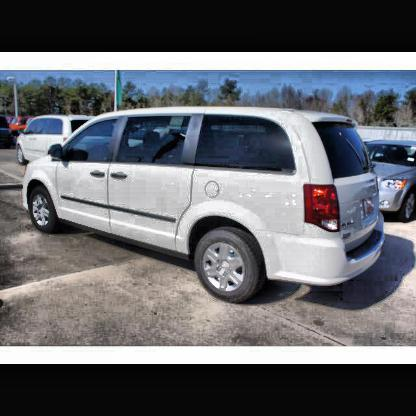Ram C-V Cargo Van Minivan 2012: (23, 109, 388, 310)
